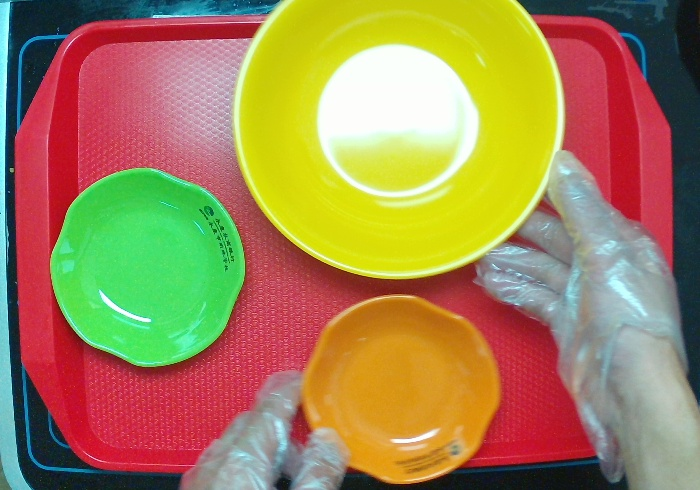YKMZ-Huang_Se_Tang_Wan: (231, 1, 568, 281)
YKMZ-Ju_Se_Ao_Bian_Wan: (299, 292, 504, 485)
YKMZ-Lv_Se_Ao_Bian_Wan: (47, 165, 245, 369)
